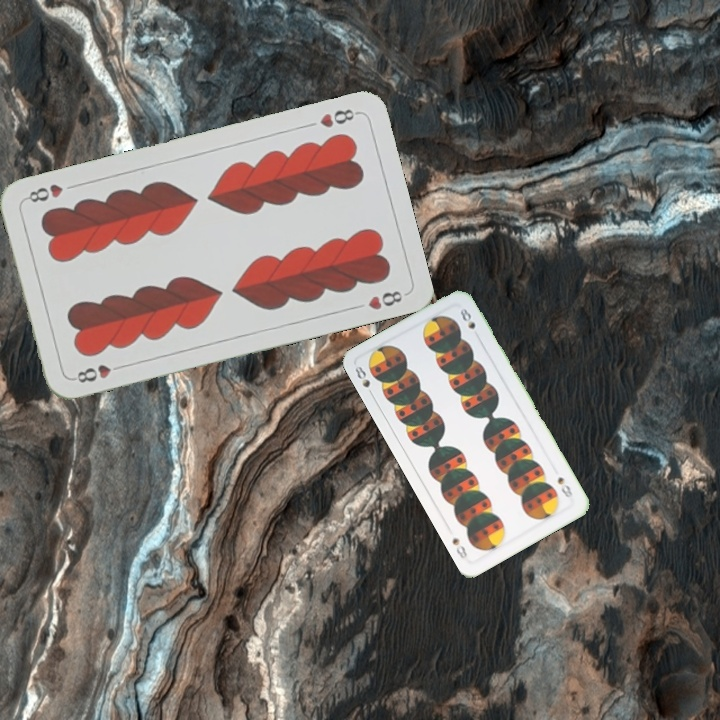H8: (69, 360, 127, 386), (316, 105, 361, 131)
S8: (351, 362, 377, 400), (553, 473, 575, 500)
